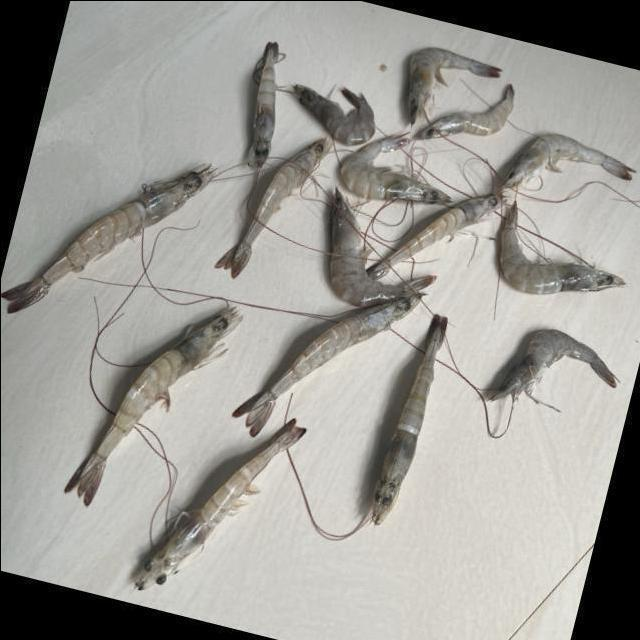shrimp: (64, 307, 242, 506), (0, 163, 213, 312), (135, 419, 305, 590), (232, 294, 420, 436), (215, 135, 332, 277), (372, 314, 446, 525), (330, 187, 436, 306), (500, 201, 625, 294), (367, 193, 502, 279), (491, 329, 617, 408), (340, 135, 451, 203), (407, 46, 502, 125), (502, 132, 636, 188), (418, 84, 515, 138), (293, 84, 374, 144), (247, 40, 285, 167)
